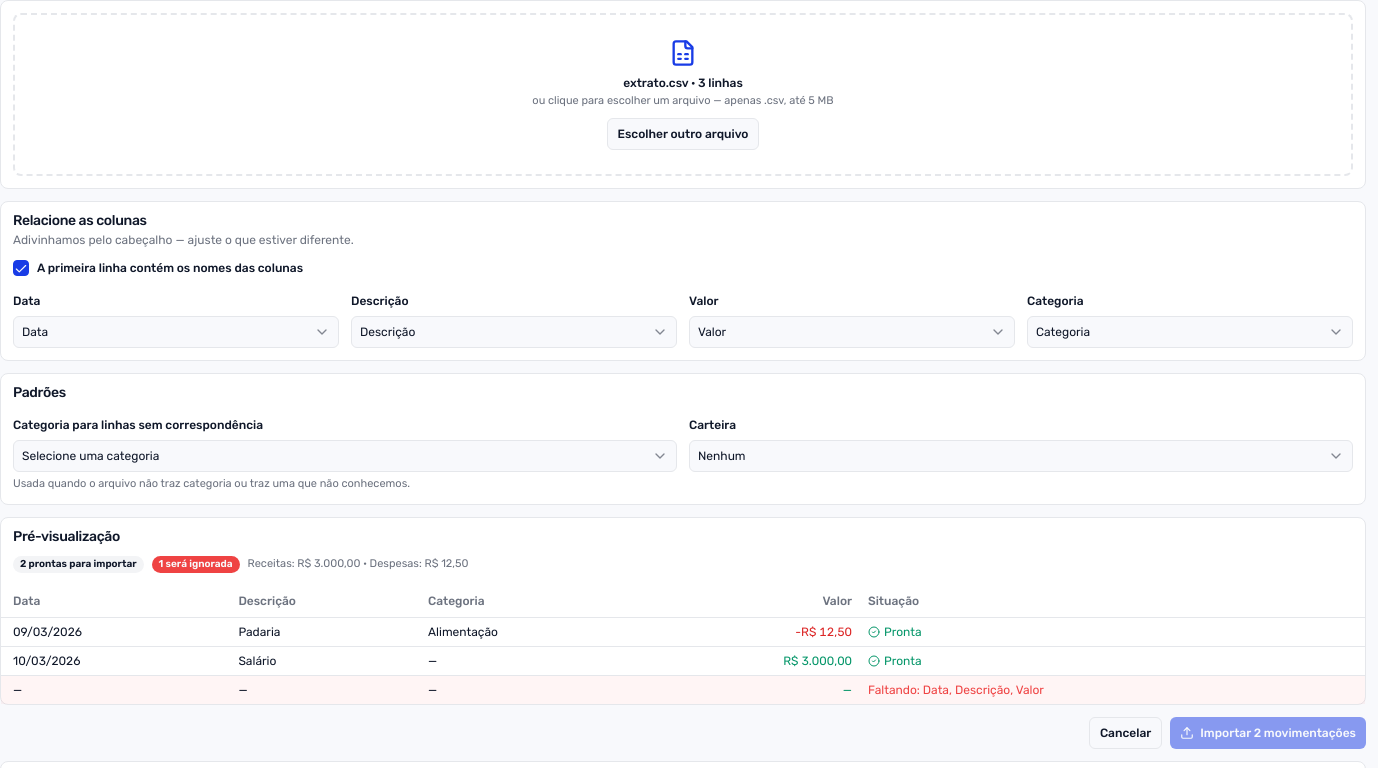
Test: StatementImportSection › imports only the valid rows, matching categories by name
Earlier steps of the test are not shown.
expect the text "Relacione as colunas" is shown: met, box left=13, top=212, right=147, bottom=228
expect the button "Importar 2 movimentações" is disabled: met, box left=1170, top=716, right=1366, bottom=748
Click the dropdown named "Categoria para linhas sem correspondência": x=91, y=456 left=13, top=440, right=677, bottom=472
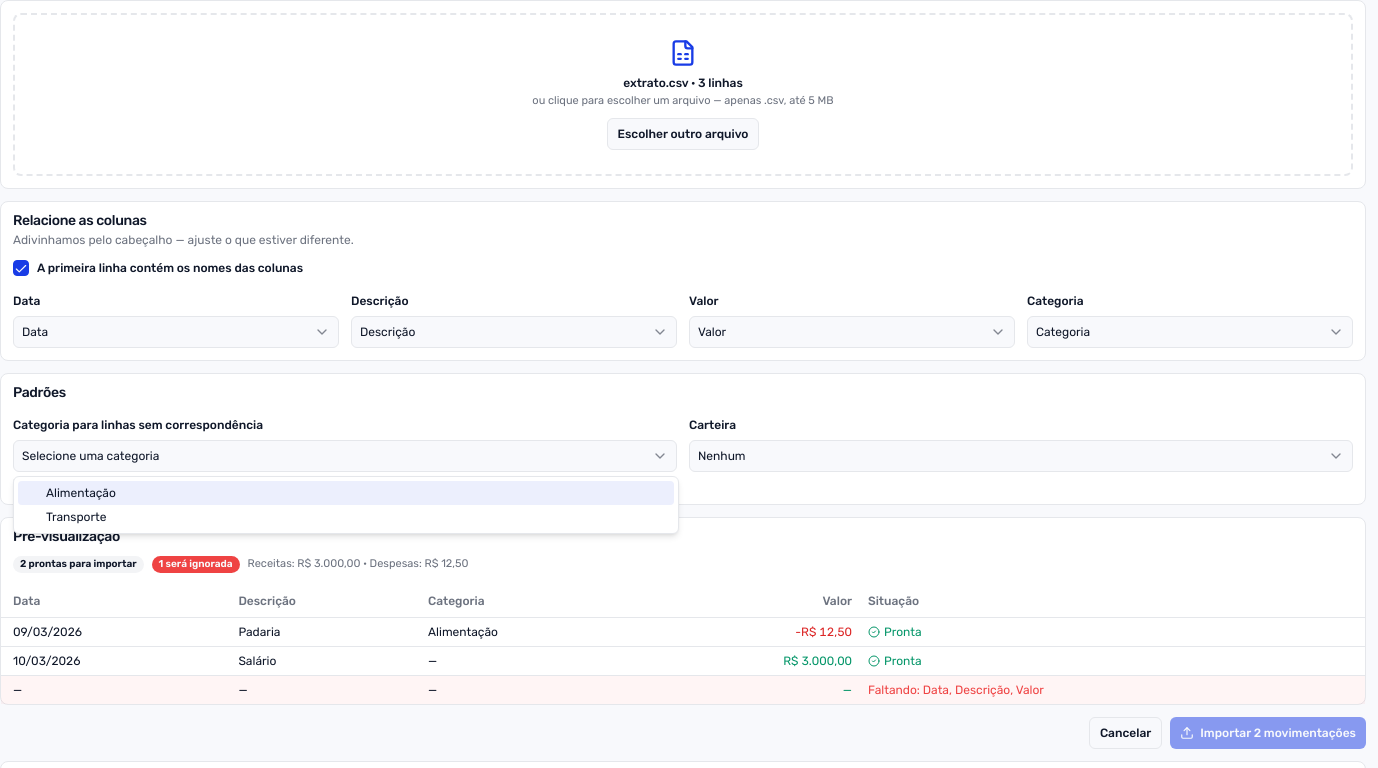
Click the option "Transporte": x=76, y=517 left=46, top=510, right=106, bottom=524
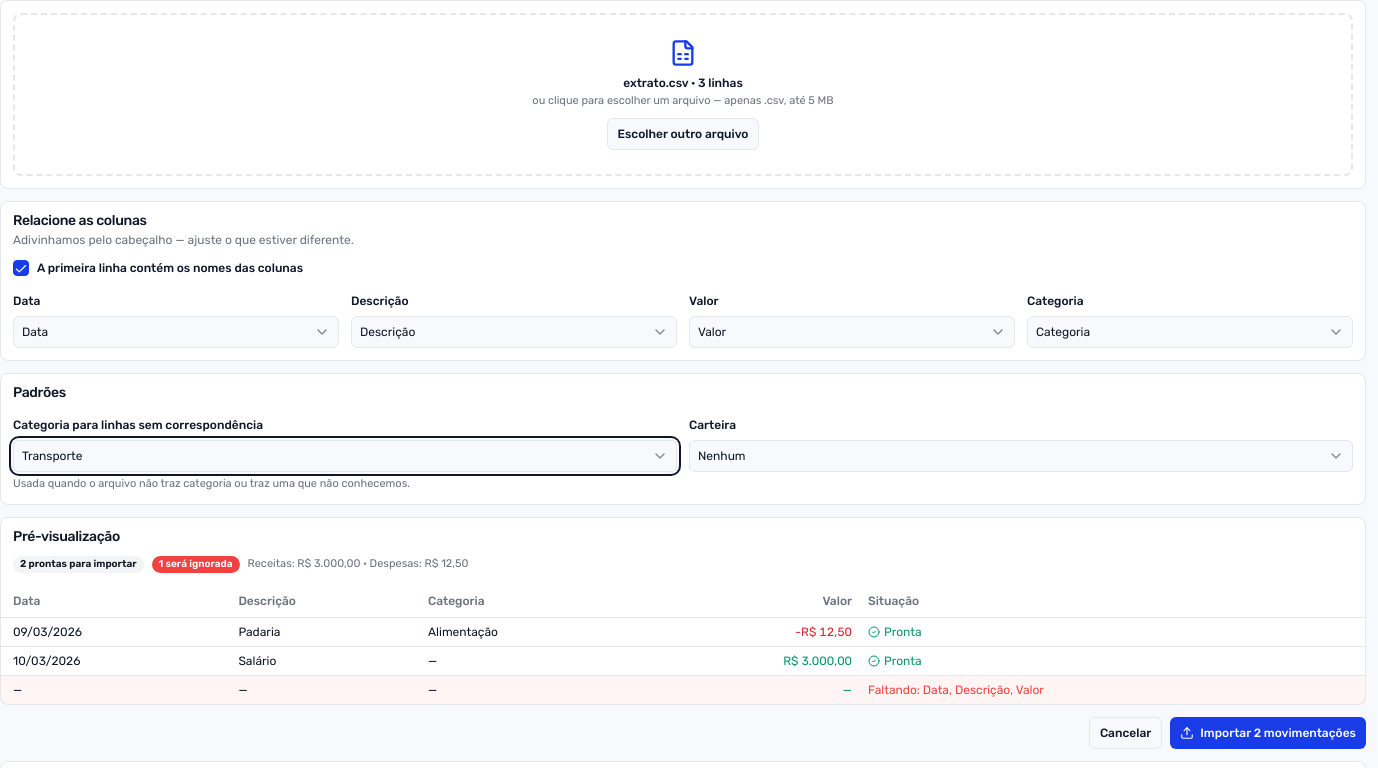
Click the button "Importar 2 movimentações": x=1268, y=732 left=1170, top=716, right=1366, bottom=748
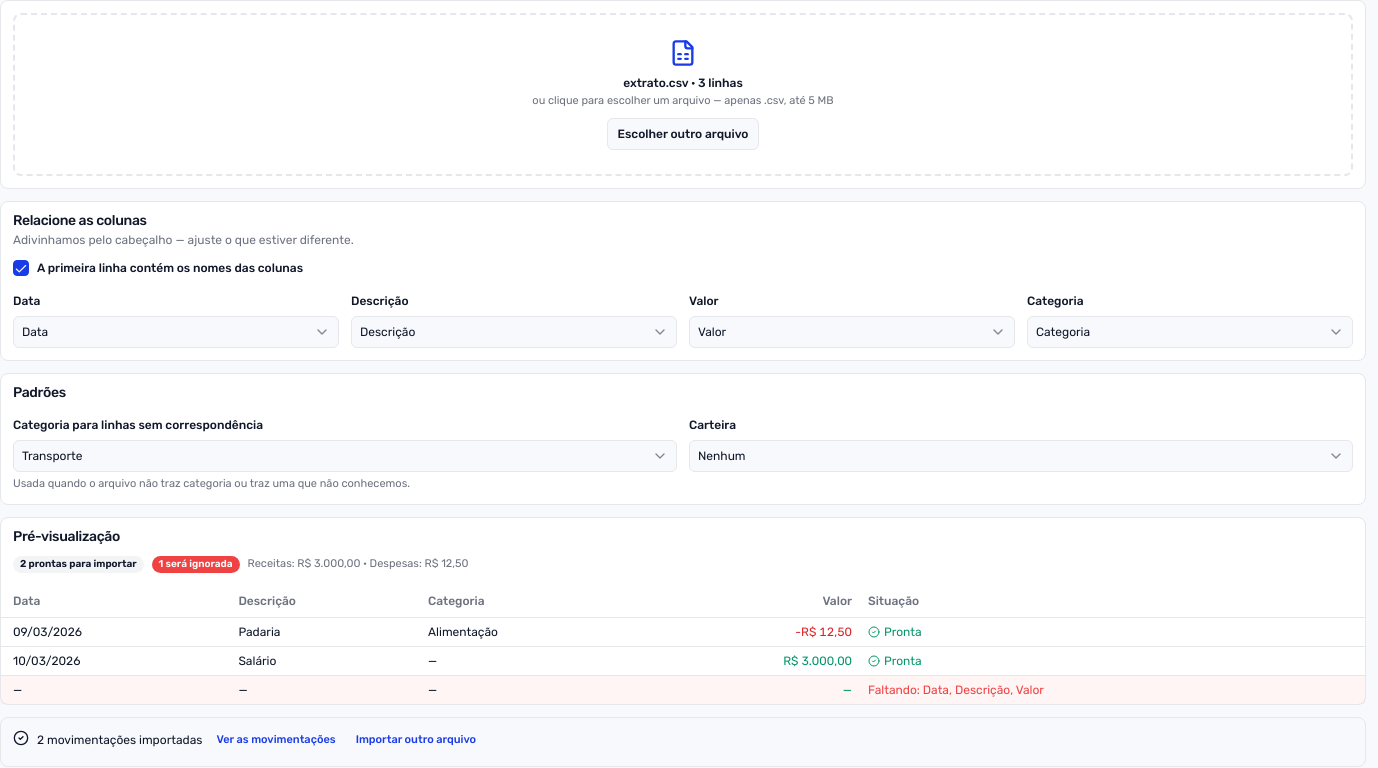
expect the text "2 movimentações importadas" is shown: met, box left=37, top=732, right=202, bottom=746
